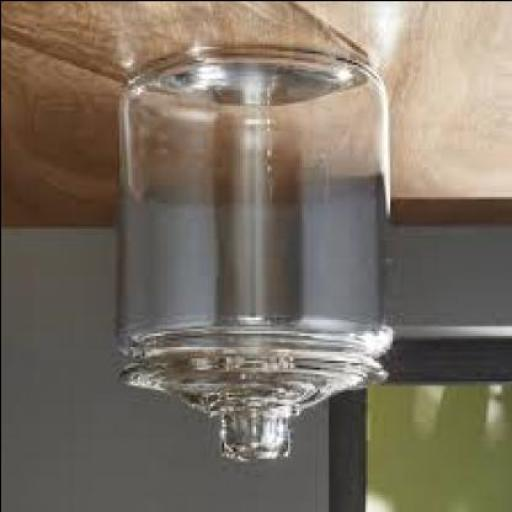glass: (118, 52, 396, 462)
